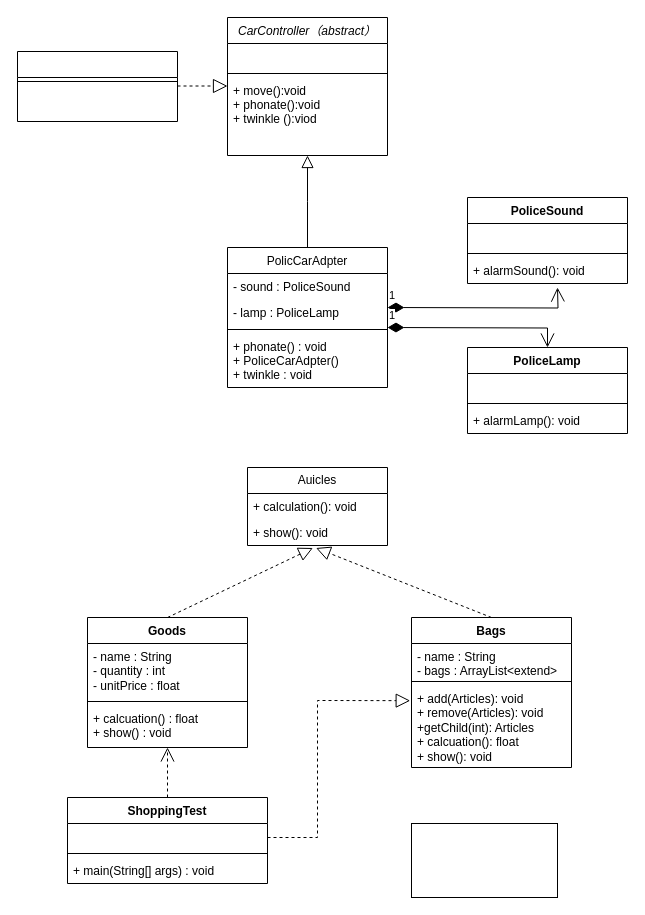
Some shapes in this 645 by 915 pixel diagram are drawn without their labels. Here are the shapes that lost their labels. From the top down, the centre of each, then its label:
At (97,86): "Client".
At (484,860): "public void show{ for(Object obj:bags){(Articles obj).show(); }}".
